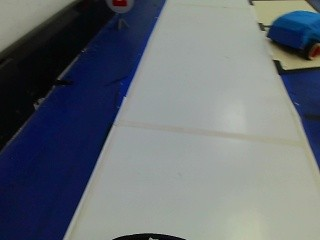car: (269, 9, 318, 61)
